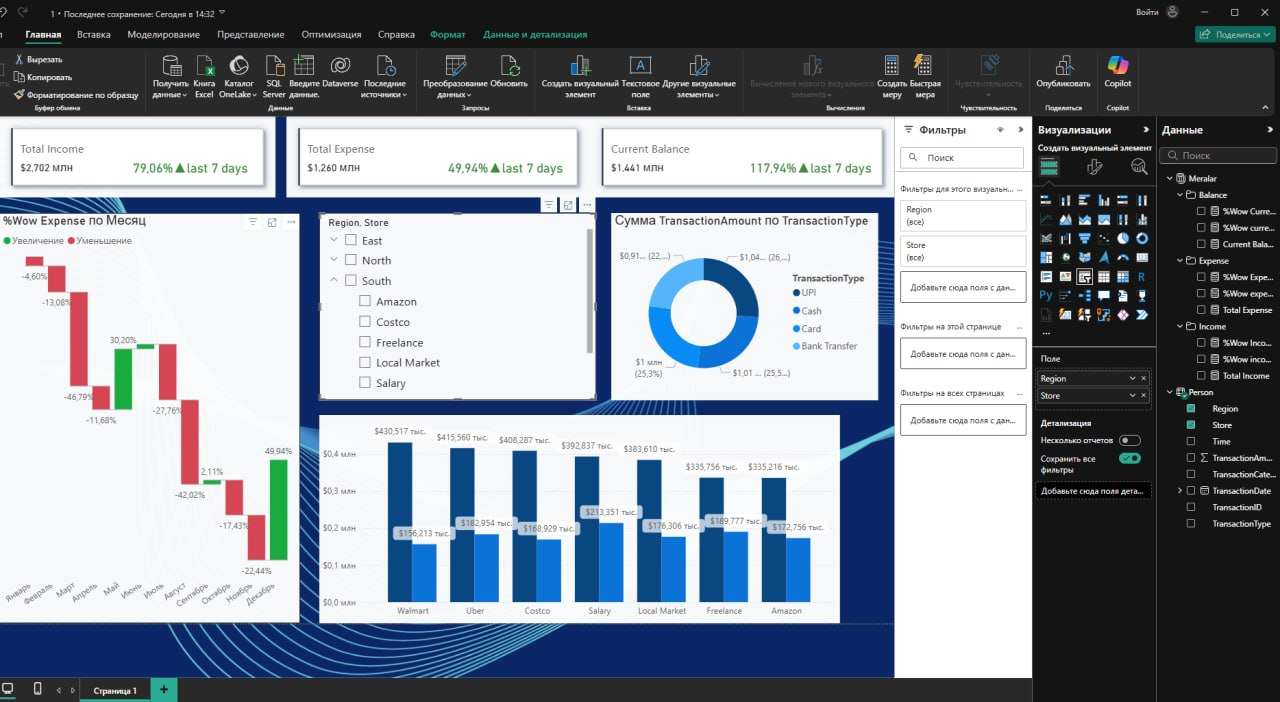

The page's visual inventory and layout, read from the dashboard file:
{"tool":"powerbi","page":{"name":"Страница 1","canvas":[1280,720],"ordinal":0},"visuals":[{"type":"cardVisual","fields":{"Data":["Meralar.Total Income"]},"box":[9.6,0,392.5,115.3],"z":0},{"type":"cardVisual","fields":{"Data":["Meralar.Total Expence"]},"box":[417.2,0,430.9,115.3],"z":1000},{"type":"cardVisual","fields":{"Data":["Meralar.Current Balance"]},"box":[848,0,432.2,115.3],"z":2000},{"type":"card","fields":{"Values":["Meralar.%Wow income text"]},"box":[185.2,57.6,192.1,32.9],"z":3000},{"type":"card","fields":{"Values":["Meralar.%Wow expense text"]},"box":[632.6,57.6,192.1,32.9],"z":4000},{"type":"card","fields":{"Values":["Meralar.%Wow current text"]},"box":[1064.8,57.6,192.1,32.9],"z":5000},{"type":"waterfallChart","fields":{"Category":["Person.TransactionDate.Изменение.Иерархия дат.Месяц"],"Y":["Meralar.%Wow Expense"]},"box":[9.7,137.1,427,582.6],"z":6000},{"type":"lineClusteredColumnComboChart","fields":{"Category":["Person.Store"],"Y":["Meralar.Total Income","Meralar.Total Expense"]},"box":[464,424.1,739.2,295.7],"z":6001},{"type":"donutChart","fields":{"Category":["Person.TransactionType"],"Y":["Sum(Person.TransactionAmount)"]},"box":[878.3,137.1,379.3,265.5],"z":6002},{"type":"clusteredBarChart","fields":{"Category":["Person.Region"]},"box":[464,137.1,392.9,265.5],"z":6003}]}

Visuals, with their boxes on the page's 1280x720 design canvas (x1, y1, x2, y2). These are canvas units, not pixel positions in the 1280x702 screenshot, which may show the page scaled, cropped or inside an application window:
cardVisual - Meralar.Total Income: 10/0/402/115
cardVisual - Meralar.Total Expence: 417/0/848/115
cardVisual - Meralar.Current Balance: 848/0/1280/115
card - Meralar.%Wow income text: 185/58/377/90
card - Meralar.%Wow expense text: 633/58/825/90
card - Meralar.%Wow current text: 1065/58/1257/90
waterfallChart - Person.TransactionDate.Изменение.Иерархия дат.Месяц x Meralar.%Wow Expense: 10/137/437/720
lineClusteredColumnComboChart - Person.Store x Meralar.Total Income: 464/424/1203/720
donutChart - Person.TransactionType x Sum(Person.TransactionAmount): 878/137/1258/403
clusteredBarChart - Person.Region: 464/137/857/403
